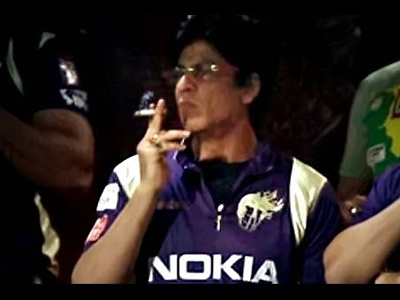cigarette: (129, 106, 163, 115)
